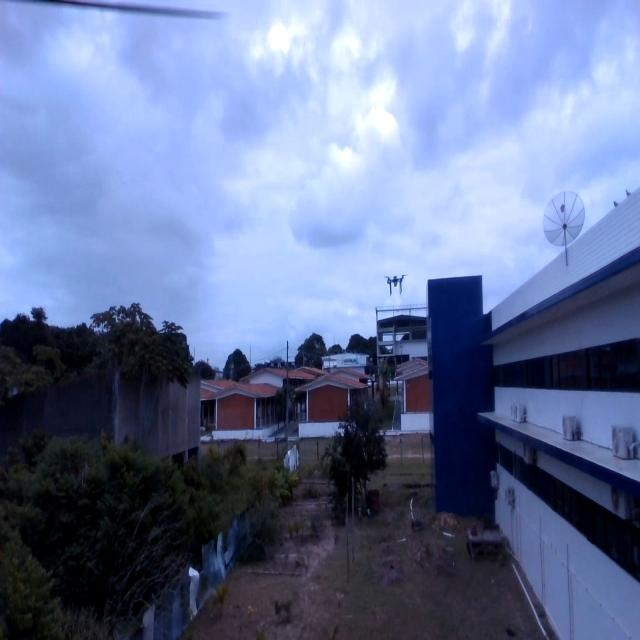-uav-: (382, 268, 410, 304)
